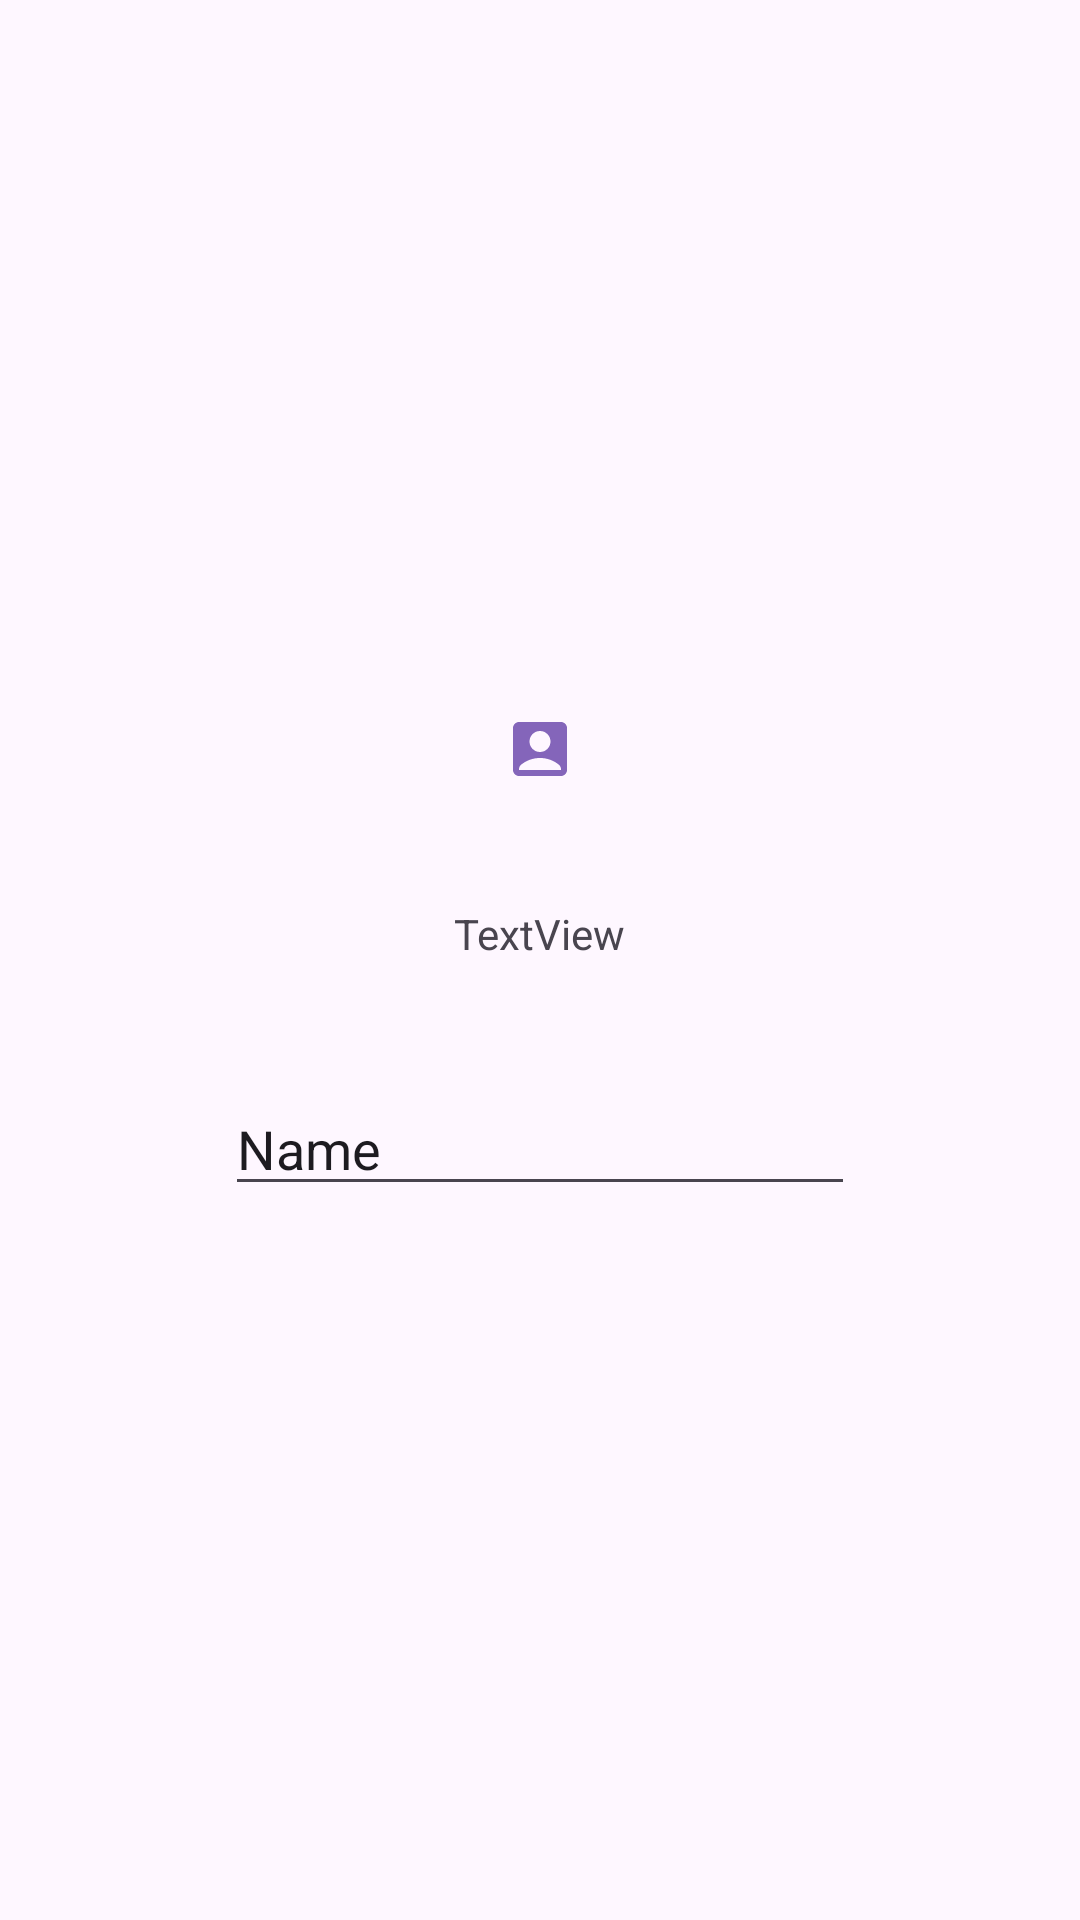

Where icons sit on this 1080×1920 app screen, as {"left": x1, "top": y1, "right": x2, "bottom": y2}:
signup account box: {"left": 513, "top": 722, "right": 567, "bottom": 776}
